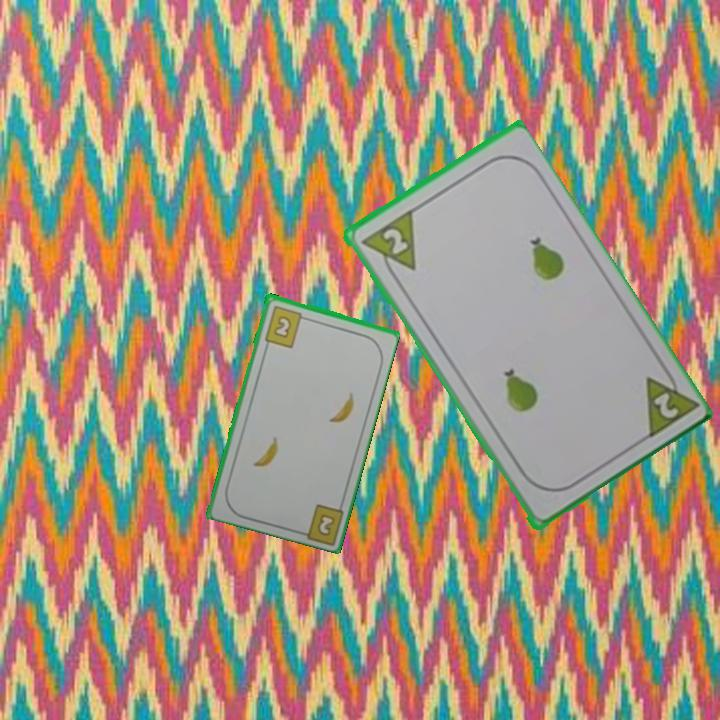2b: (261, 302, 310, 350), (313, 510, 338, 539)
2p: (640, 360, 699, 443), (356, 207, 419, 284)
